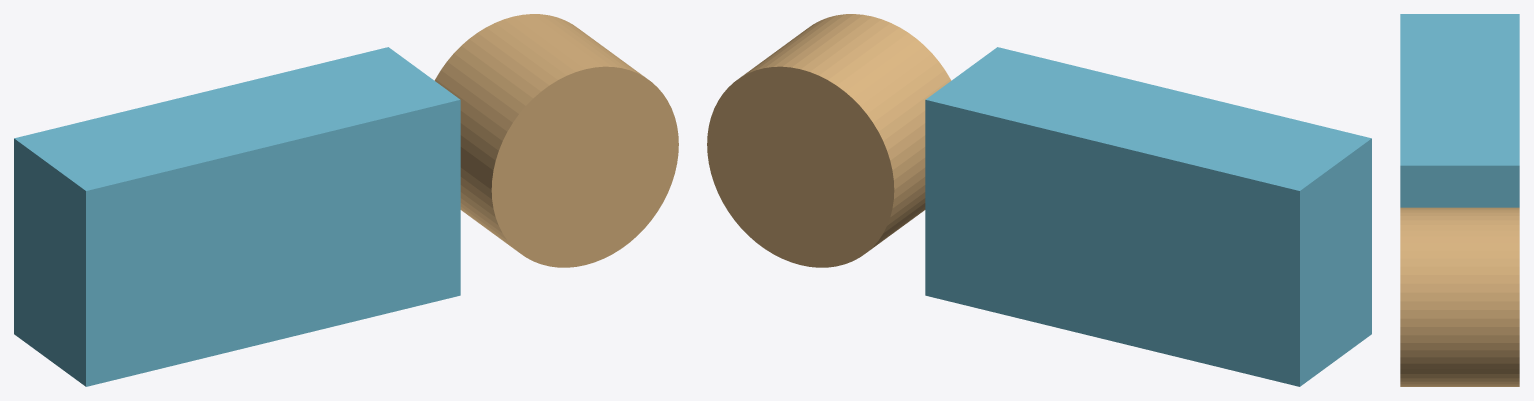
Rendered from extrude_snapped_demo.glb.
3 renders of one model, left to right at view 1: azimuth 30°, elevation 25°; view 2: azimuth 150°, elevation 25°; view 3: azimuth 270°, elevation 25°, orthographic. The views are drawn at different scales.
Visible parts, largest first — view 1: snapped_0, snapped_1; view 2: snapped_0, snapped_1; view 3: snapped_0, snapped_1.
Boxes of the visible parts, x1,y1,x2,y2 form: snapped_0: (14,47,460,386); snapped_1: (434,14,678,267); snapped_0: (925,47,1371,386); snapped_1: (707,14,951,267); snapped_0: (1400,14,1519,207); snapped_1: (1400,207,1519,386).
Size of the model in its own units: 19 by 6 by 4.
